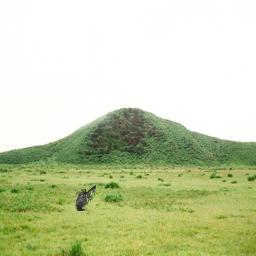Crow: (76, 185, 97, 211)
